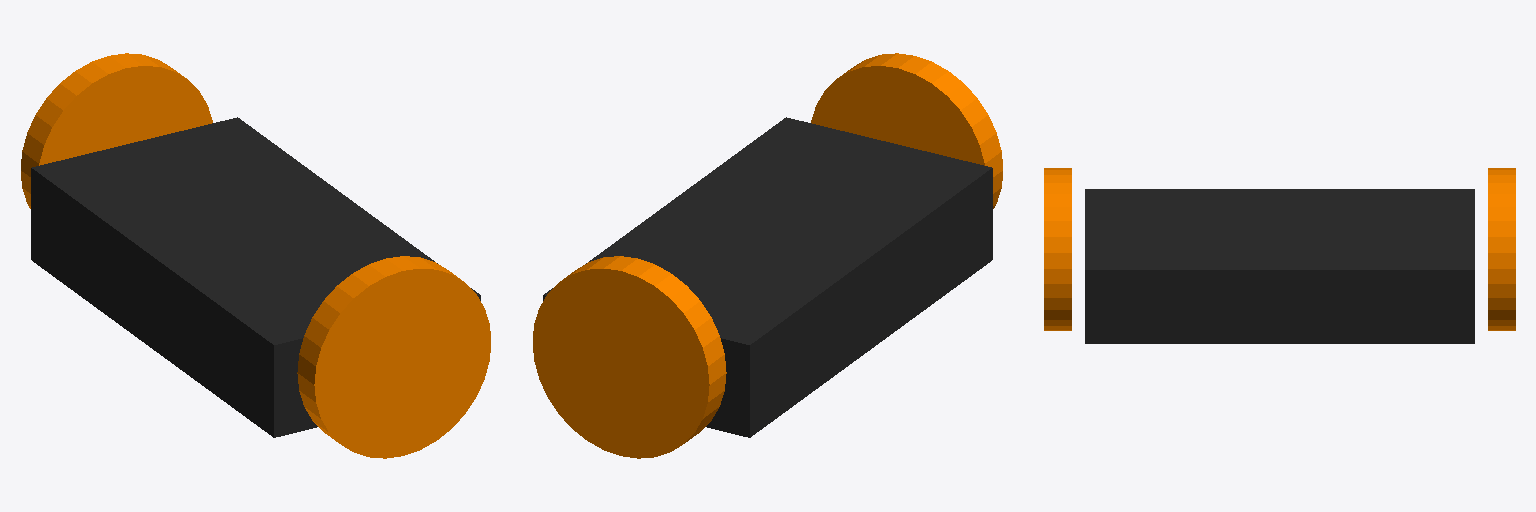
robot.urdf — arlobot:
<robot name="arlobot">

    <material name="Black">
        <color rgba="0.2 0.2 0.2 1.0"/>
    </material>

    <material name="TransparentGreen">
        <color rgba="0.0 0.8 0.0 0.5"/>
    </material>

    <material name="Orange">
        <color rgba="1.0  0.55 0.0 1.0"/>
    </material>

    <link name="base_footprint">
        <visual>
          <origin xyz="0 0 0" rpy="0 0 0" />
          <geometry>
              <box size="0.05 0.05 0.001" />
          </geometry>
          <material name="TransparentGreen" />
        </visual>
    </link>

    <link name="base_link">
        <visual>
            <origin xyz="0 0 0" rpy="0 0 0" />
            <geometry>
                <box size="0.1778 0.36195 0.0762" />
            </geometry>
            <material name="Black" />
      </visual>
      <!--
      <collision>
          <origin xyz="0 0 0" rpy="0 0 0" />
          <geometry>
              <box size="0.1778 0.36195 0.0762" />
          </geometry>
        </collision>
        -->
    </link>

    <joint name="base_joint" type="fixed">
        <parent link="base_footprint"/>
        <child link="base_link" />
        <!-- Note: The wheels extend radius - z offset below the battery box so we must offset the base_joint by that
        same amount in order for the robot to reset at 0 offset on the Z axis
        -->
        <origin xyz="0 0 0.0584" rpy="0 0 0" />
    </joint>


    <link name="left_wheel_link">
        <visual>
            <origin xyz="0 0 0" rpy="0 0 0" />
            <geometry>
                <cylinder radius="0.0762" length="0.0254"/>
            </geometry>
            <material name="Orange" />
        </visual>
    </link>

    <joint name="base_left_wheel_joint" type="fixed">
        <parent link="base_link"/>
        <child link="left_wheel_link"/>
        <origin xyz="0.00 0.206375 0.0178" rpy="1.57075 0 0" />
        <limit effort="0.1" velocity="0.01"/>
        <axis xyz="0 0 1" />
    </joint>

    <link name="right_wheel_link">
        <visual>
            <origin xyz="0 0 0" rpy="0 0 0" />
            <geometry>
                <cylinder radius="0.0762" length="0.0254"/>
            </geometry>
            <material name="Orange" />
        </visual>
    </link>

    <joint name="base_right_wheel_joint" type="fixed">
        <parent link="base_link"/>
        <child link="right_wheel_link"/>
        <origin xyz="0.00 -0.206375 0.0178" rpy="-1.57075 0 0" />
        <limit effort="0.1" velocity="0.01"/>
        <axis xyz="0 0 1" />
    </joint>



</robot>

--- Facts derived from the render (not from the file) ---
The picture shows the robot from 3 angles, left to right: view 1: azimuth 30°, elevation 25°; view 2: azimuth 150°, elevation 25°; view 3: azimuth 270°, elevation 25°; orthographic projection.
Robot: arlobot — 4 links, 3 joints (3 fixed); root link base_footprint; default pose: all joints at 0.
Links seen in each view (by area): view 1: base_link, right_wheel_link, left_wheel_link; view 2: base_link, left_wheel_link, right_wheel_link; view 3: base_link, left_wheel_link, right_wheel_link.
Link boxes in pixels (x1,y1,x2,y2): base_link: (31, 117, 480, 437); right_wheel_link: (297, 256, 490, 458); left_wheel_link: (21, 53, 212, 208); base_link: (543, 117, 992, 437); left_wheel_link: (533, 256, 726, 458); right_wheel_link: (811, 53, 1002, 208); base_link: (1085, 189, 1474, 343); left_wheel_link: (1488, 168, 1515, 330); right_wheel_link: (1044, 168, 1071, 330).
Bounding box of the posed robot: 0.1778 × 0.4382 × 0.1529 m (x, y, z).
Geometry: primitives only (box / cylinder / sphere), no mesh files.